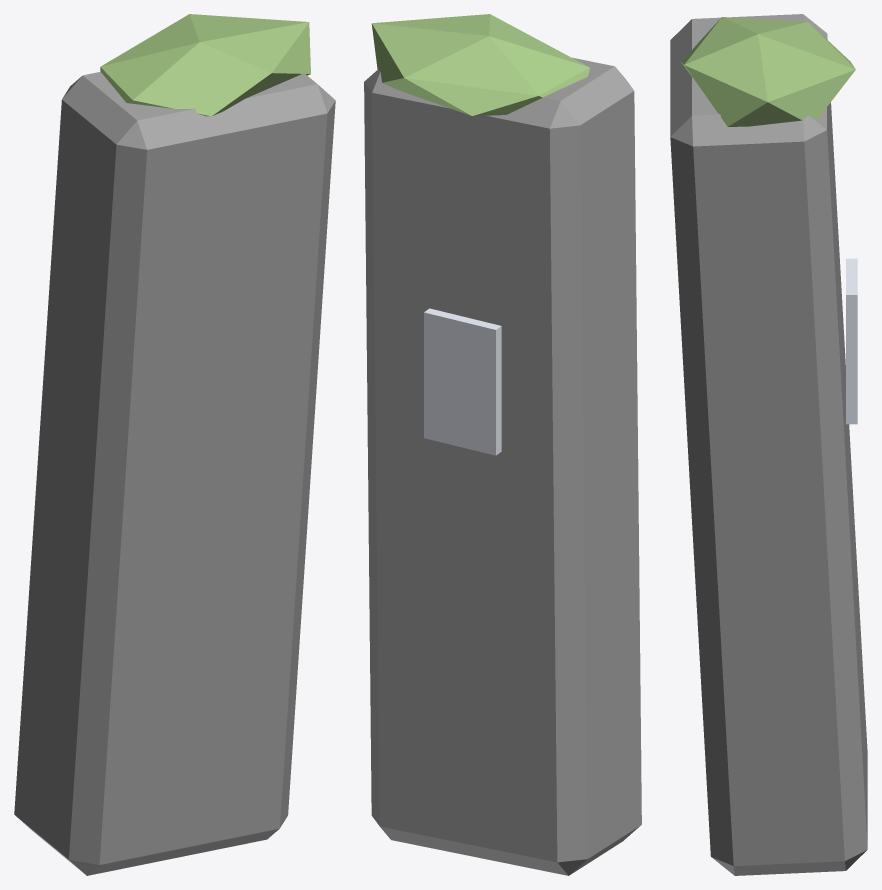
The model's file is Standing_Stone.fbx.
3 renders of one model, left to right at view 1: azimuth 30°, elevation 25°; view 2: azimuth 150°, elevation 25°; view 3: azimuth 270°, elevation 25°, orthographic. The views are drawn at different scales.
Parts seen in each view (by area): view 1: Standing_Stone_Mesh; view 2: Standing_Stone_Mesh; view 3: Standing_Stone_Mesh.
Boxes of the visible parts, left/top/right/bottom form: Standing_Stone_Mesh: left=14, top=14, right=335, bottom=875; Standing_Stone_Mesh: left=364, top=14, right=641, bottom=875; Standing_Stone_Mesh: left=670, top=14, right=867, bottom=875.
Bounding box in the file's own units: 1.06 × 3.15 × 0.6913.
